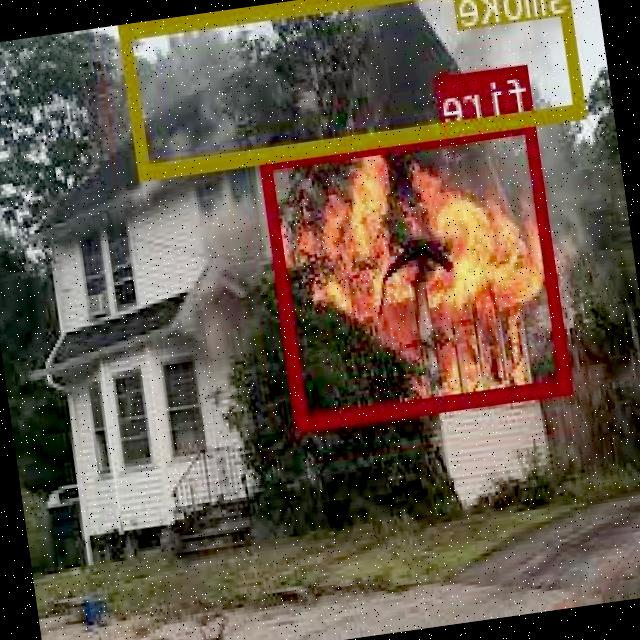fire: (262, 114, 576, 428)
smoke: (121, 0, 588, 175)
